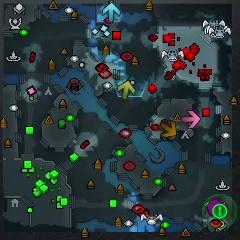Other: (213, 203, 228, 218)
p3: (206, 199, 225, 217)
x1: (182, 110, 200, 129)
x2: (118, 80, 136, 99)
x3: (103, 4, 121, 21)
x5: (161, 120, 177, 138)
